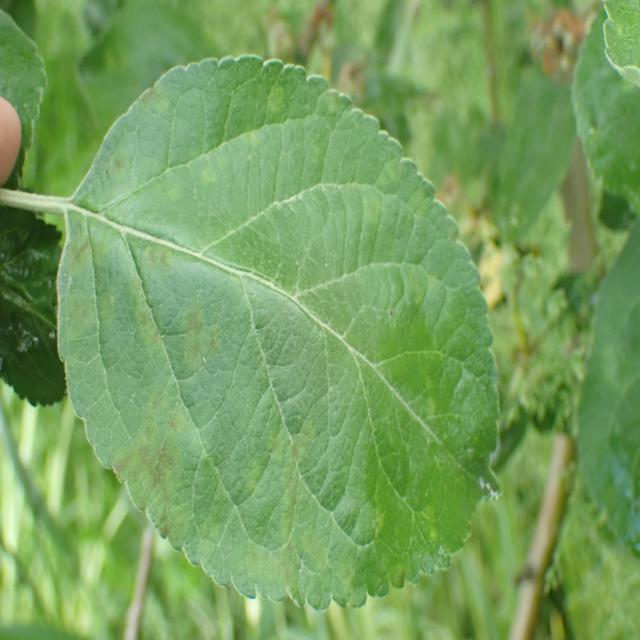scab: (53, 81, 471, 592)
